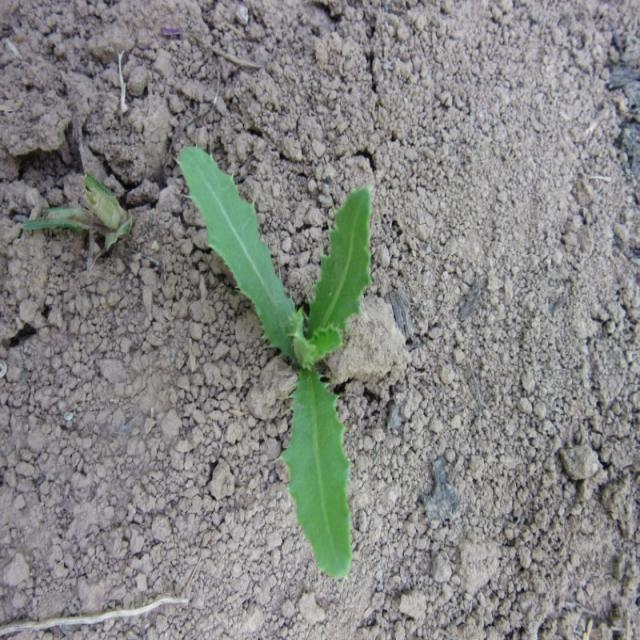field_thistle: (155, 122, 382, 600)
